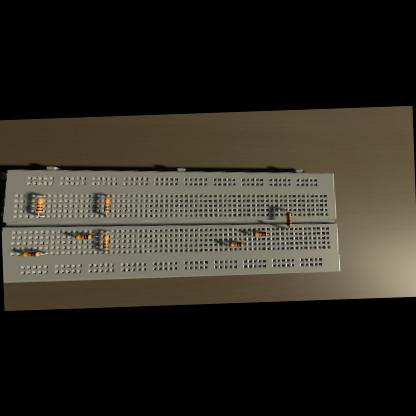breadboard: (0, 156, 338, 283)
resistor: (34, 198, 44, 212), (21, 251, 40, 257), (74, 234, 92, 240), (102, 234, 108, 249), (103, 198, 109, 212), (286, 212, 291, 226), (228, 242, 242, 246), (252, 232, 266, 236)
wire: (38, 252, 47, 254), (38, 214, 44, 217), (284, 226, 288, 229), (105, 212, 109, 215), (40, 195, 46, 197), (104, 249, 107, 252), (90, 235, 98, 236), (284, 210, 288, 212), (106, 231, 108, 234), (106, 196, 109, 198), (247, 233, 252, 234), (224, 244, 228, 245), (266, 233, 268, 235), (242, 244, 244, 245), (72, 236, 74, 237), (20, 253, 21, 254)
